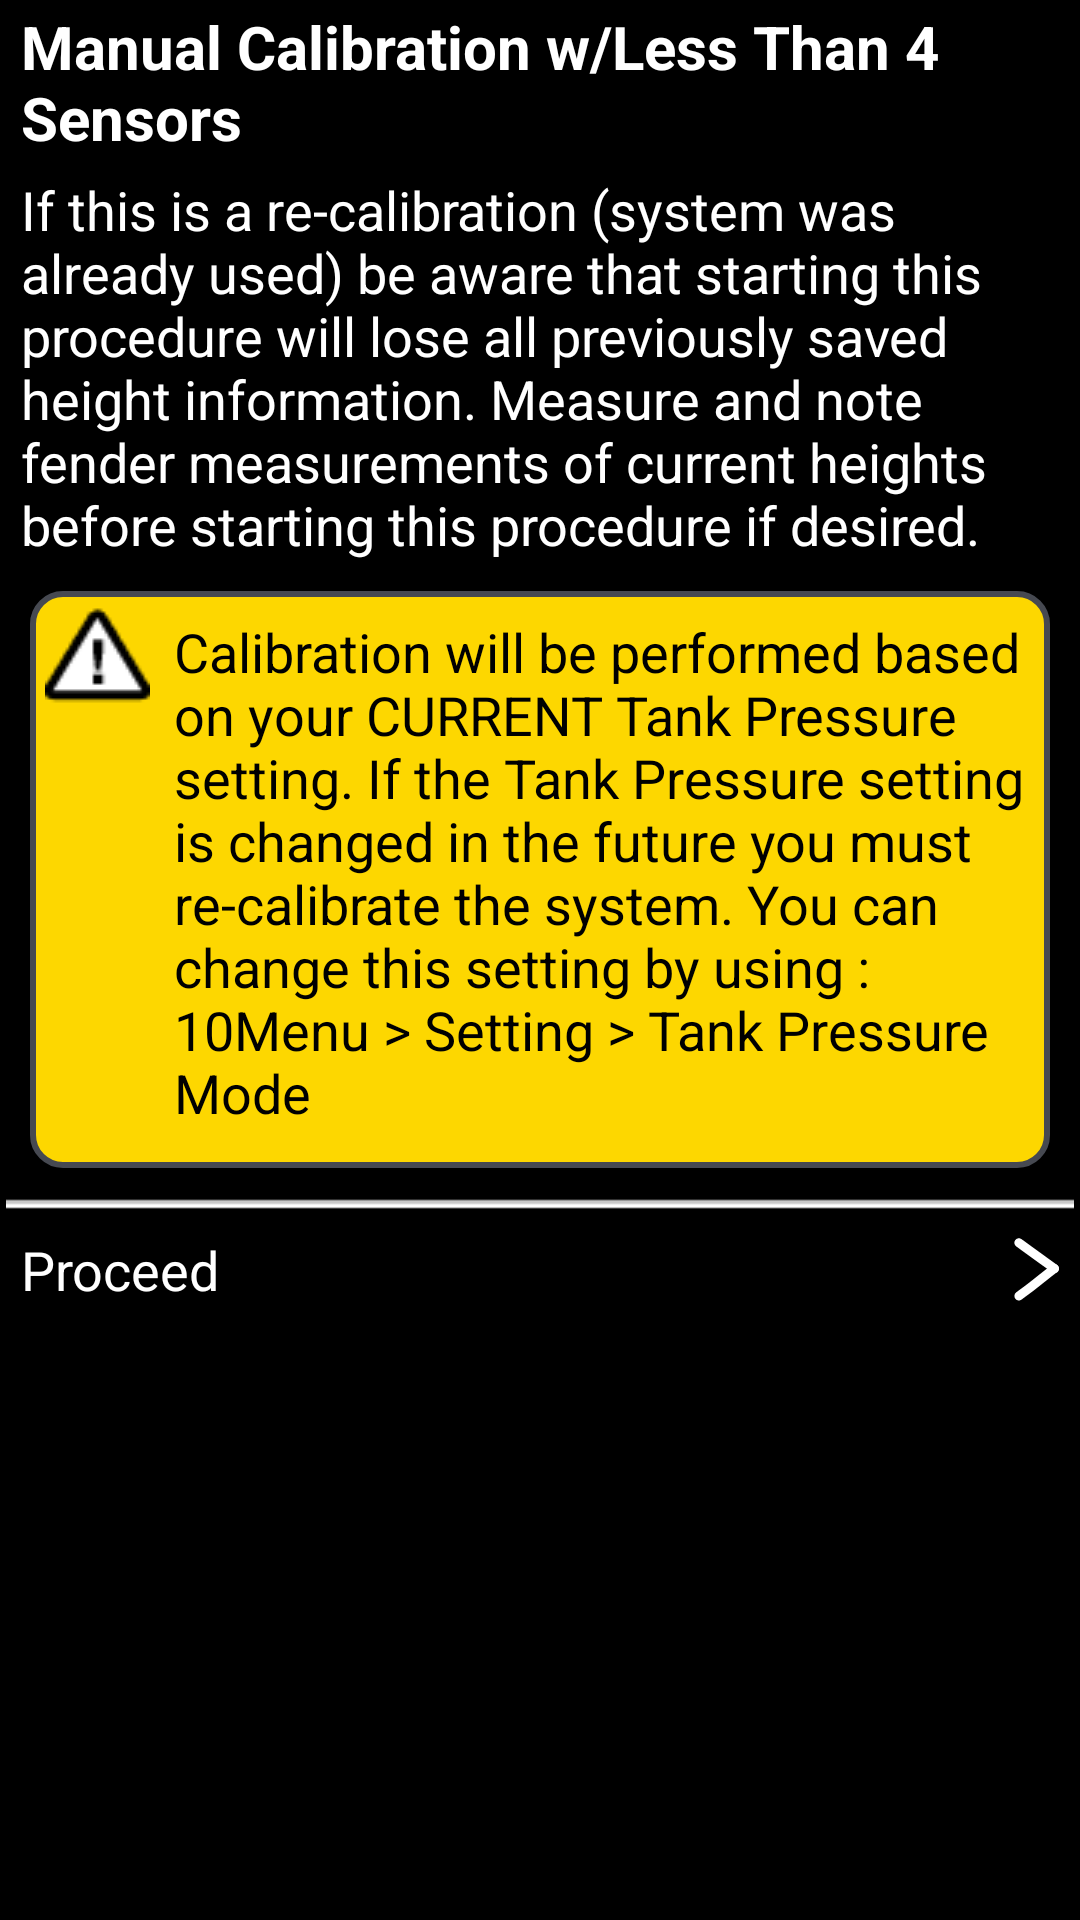

Point at icon controls on the screen. Image size 1080w x 1920h, points as point (x, y).
right arrow: point (1036, 1269)
warning: point (97, 655)
